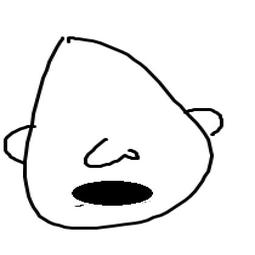ear: (174, 103, 244, 143), (4, 121, 37, 169)
nose: (61, 117, 149, 170)
open_mouth: (71, 173, 156, 210)
